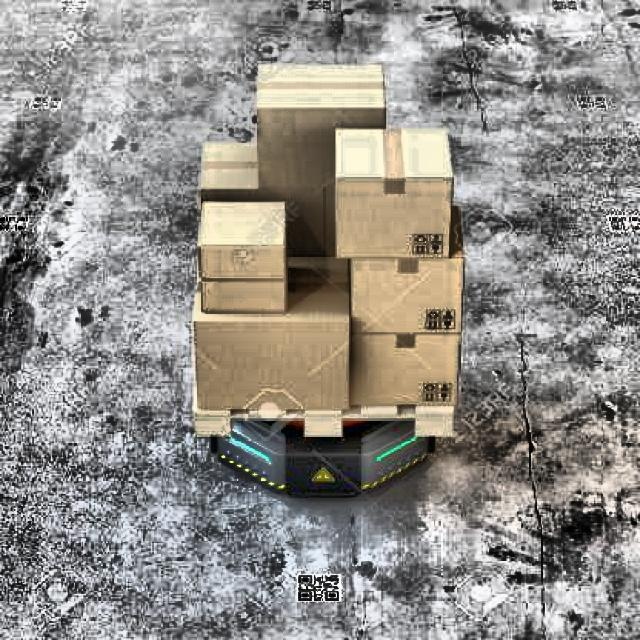Cardbox: (309, 123, 493, 268), (246, 68, 404, 189)
